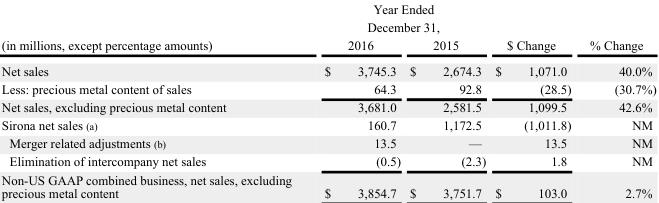table: (0, 1, 655, 200)
table column: (0, 1, 307, 200), (307, 1, 404, 200), (489, 1, 579, 200), (404, 1, 489, 200), (579, 1, 655, 200)
table column header: (0, 1, 655, 57)
table row: (0, 1, 655, 35), (0, 170, 655, 200), (0, 35, 655, 57), (0, 57, 655, 79), (0, 151, 655, 170), (0, 79, 655, 97), (0, 97, 655, 115), (0, 115, 655, 133), (0, 133, 655, 151)
table spanning cell: (0, 1, 307, 57), (307, 1, 489, 35), (489, 1, 579, 57), (579, 1, 655, 57)
